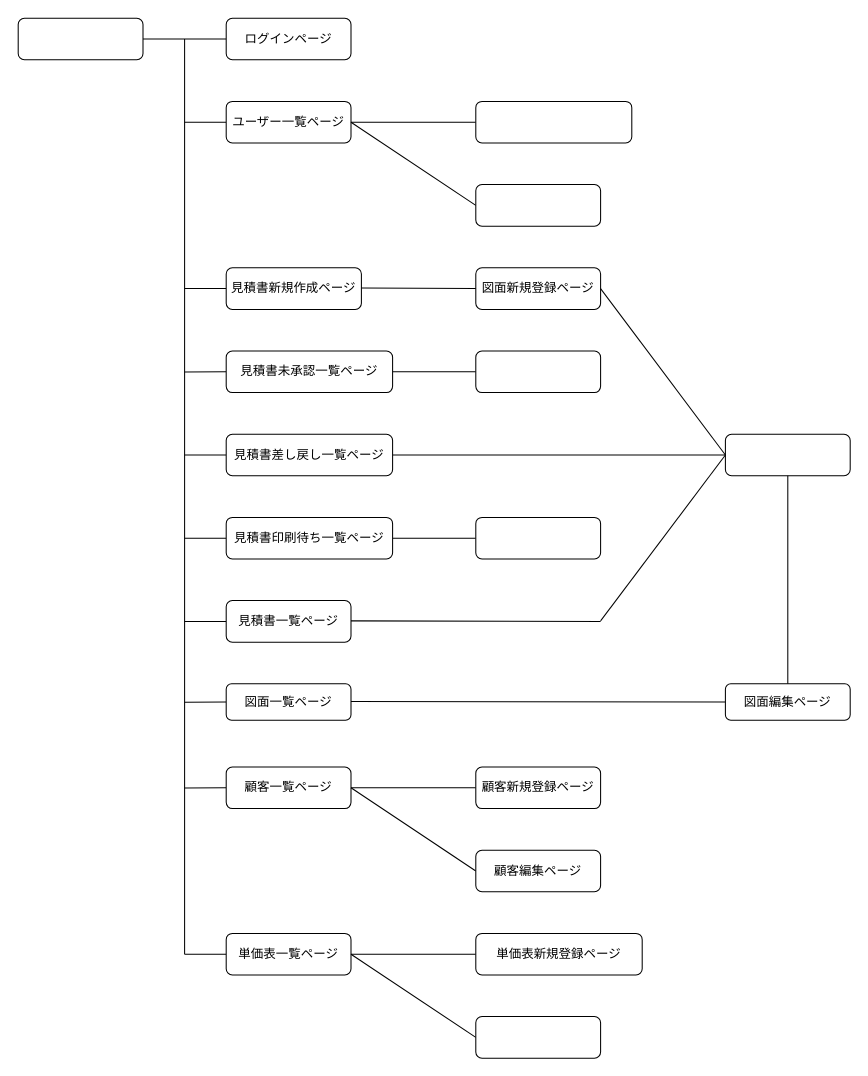
Image size: 868x1076. Some labels were removed from this diagram. The centre of each missing label's shape, as x and y in pixels:
メニューページ: point (80, 38)
ユーザー新規登録ページ: point (553, 121)
ユーザー編集ページ: point (538, 205)
単価表編集ページ: point (538, 1037)
見積承認ページ: point (538, 371)
見積書印刷ページ: point (538, 537)
見積書編集ページ: point (787, 454)
